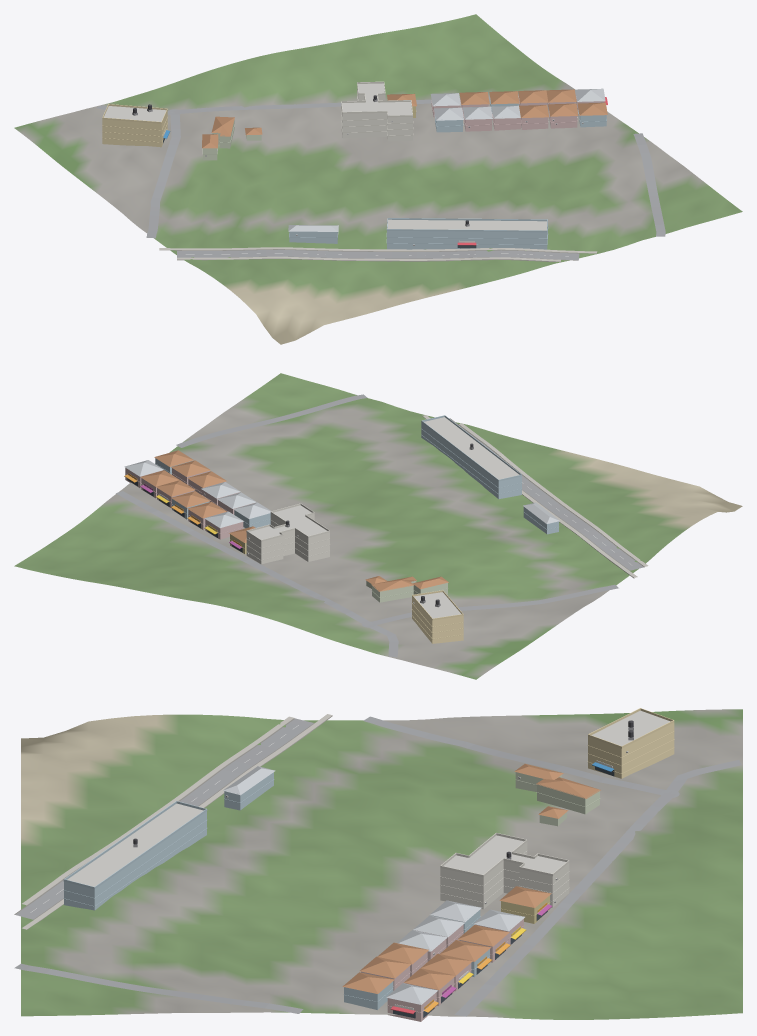
The picture shows the model from 3 angles, top to bottom: view 1: azimuth 30°, elevation 25°; view 2: azimuth 150°, elevation 25°; view 3: azimuth 270°, elevation 25°; orthographic projection. The views are drawn at different scales.
Parts seen in each view (by area): view 1: Terrain-col, Buildings-col, Roads-col, Details, Sidewalks-col; view 2: Terrain-col, Buildings-col, Roads-col, Details, Sidewalks-col; view 3: Terrain-col, Buildings-col, Roads-col, Details, Sidewalks-col.
Boxes of the visible parts, x1,y1,x2,y2 form: Terrain-col: [14, 14, 742, 344]; Buildings-col: [102, 83, 607, 249]; Roads-col: [96, 91, 665, 260]; Details: [102, 81, 607, 248]; Sidewalks-col: [159, 247, 597, 262]; Terrain-col: [14, 373, 742, 679]; Buildings-col: [124, 417, 559, 643]; Roads-col: [116, 394, 644, 657]; Details: [124, 415, 558, 639]; Sidewalks-col: [422, 415, 648, 578]; Terrain-col: [21, 709, 742, 1019]; Buildings-col: [64, 710, 674, 1021]; Roads-col: [14, 716, 741, 1016]; Details: [63, 708, 674, 1018]; Sidewalks-col: [22, 714, 332, 929].
Bounding box in the file's own units: 266 × 27.42 × 258.
